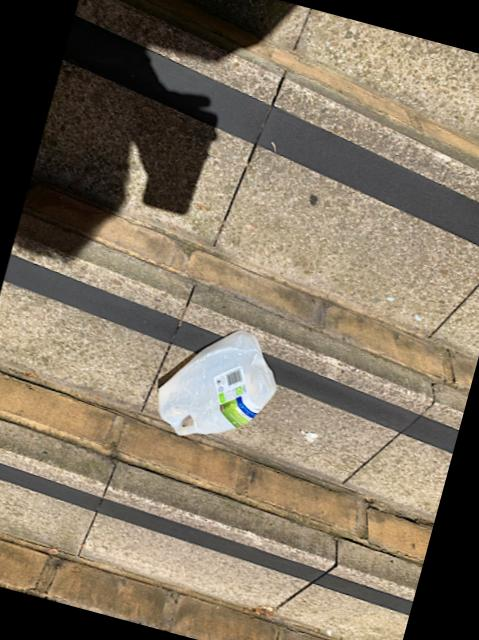plastic: (158, 331, 276, 436)
